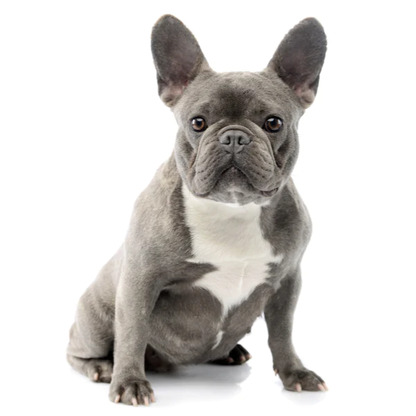bulldog: (65, 15, 333, 411)
